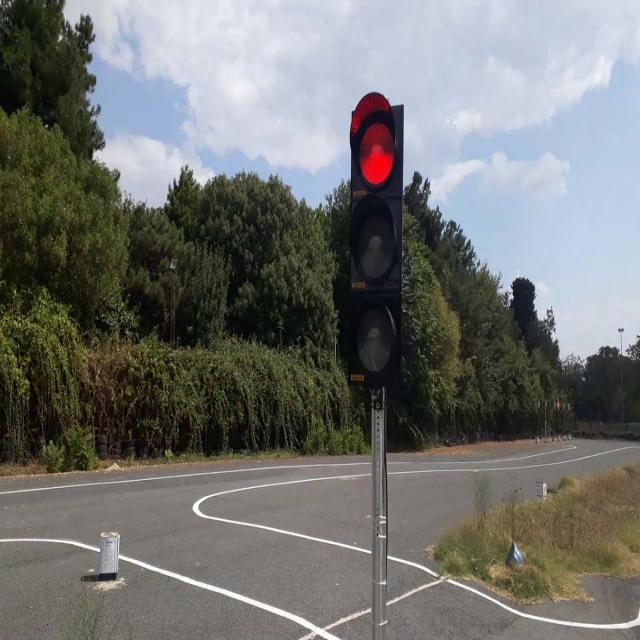kirmizi: (352, 97, 398, 383)
